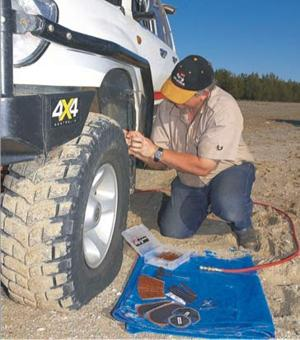person: (123, 54, 261, 251)
